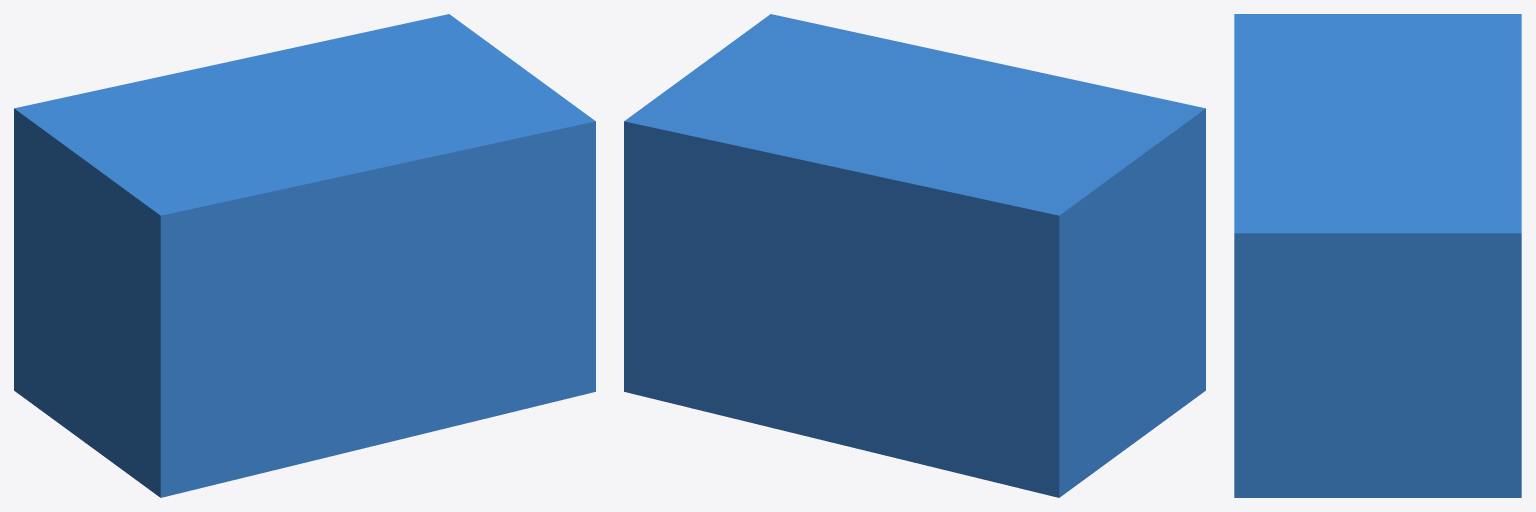
The model's file is Collision_Prop_Brick2.fbx.
3 views of the same model, side by side, from view 1: azimuth 30°, elevation 25°; view 2: azimuth 150°, elevation 25°; view 3: azimuth 270°, elevation 25° (orthographic). The views are drawn at different scales.
Parts seen in each view (by area): view 1: UCX_Prop_Brick2_1; view 2: UCX_Prop_Brick2_1; view 3: UCX_Prop_Brick2_1.
Boxes of the visible parts, x1=… form: UCX_Prop_Brick2_1: x1=14, y1=14, x2=595, y2=497; UCX_Prop_Brick2_1: x1=624, y1=14, x2=1205, y2=497; UCX_Prop_Brick2_1: x1=1234, y1=14, x2=1521, y2=497.
Bounding box in the file's own units: 39.11 × 24.24 × 22.83.
